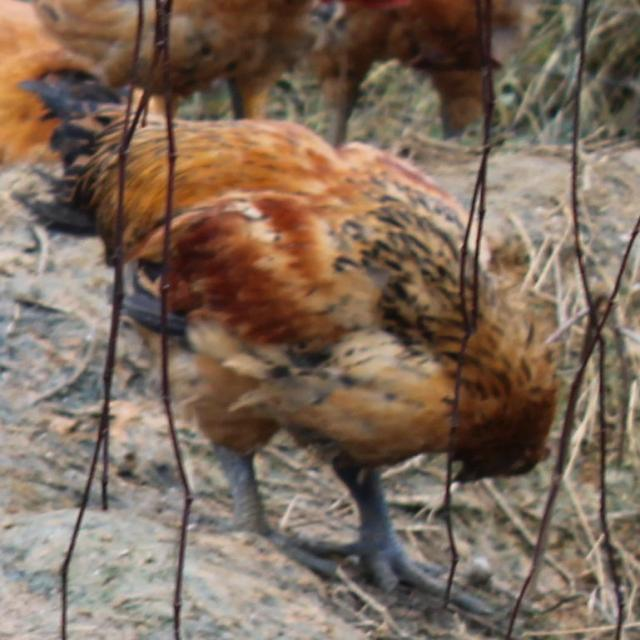hen: (156, 117, 472, 592), (170, 109, 459, 252), (22, 49, 178, 260), (451, 283, 567, 488), (121, 119, 170, 272), (124, 125, 168, 263), (215, 189, 283, 228)
